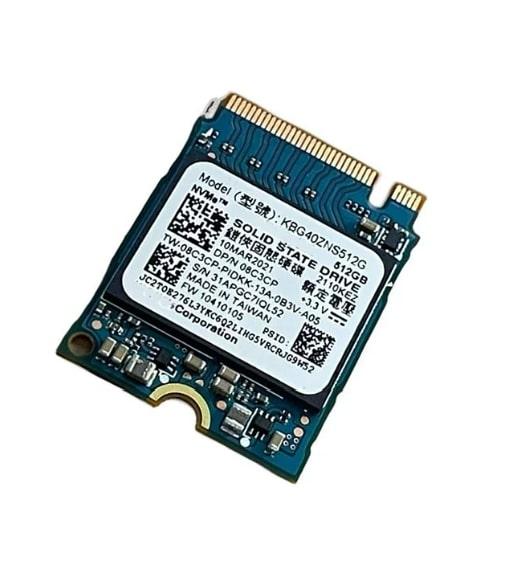ssd2230: (53, 89, 429, 487)
